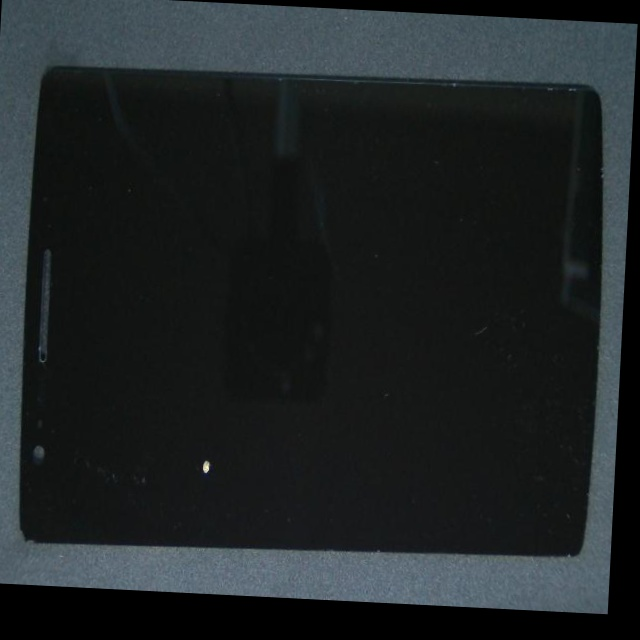stain: (100, 200, 334, 599)
